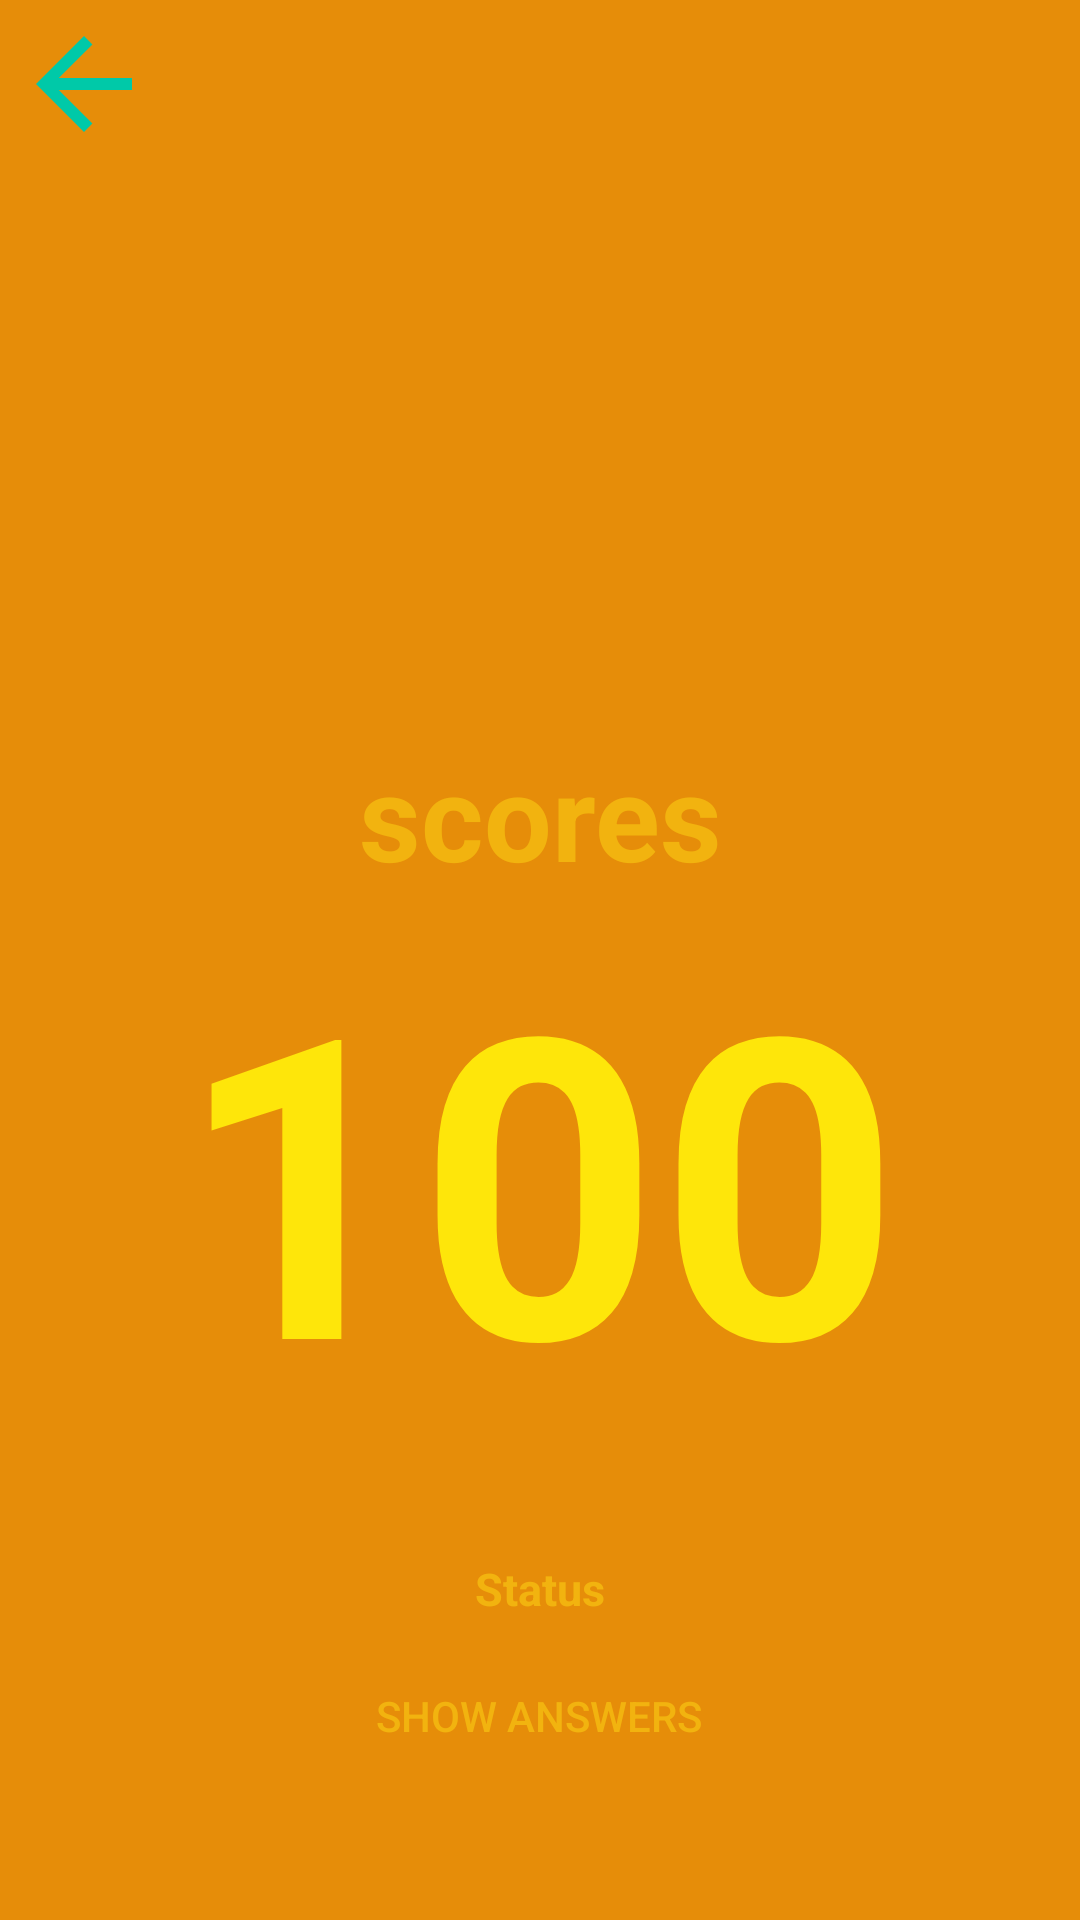

Icons on this 1080px×1920px Android screen, each with its box as (x1, y1, x2, y2):
back: (36, 36, 132, 132)
